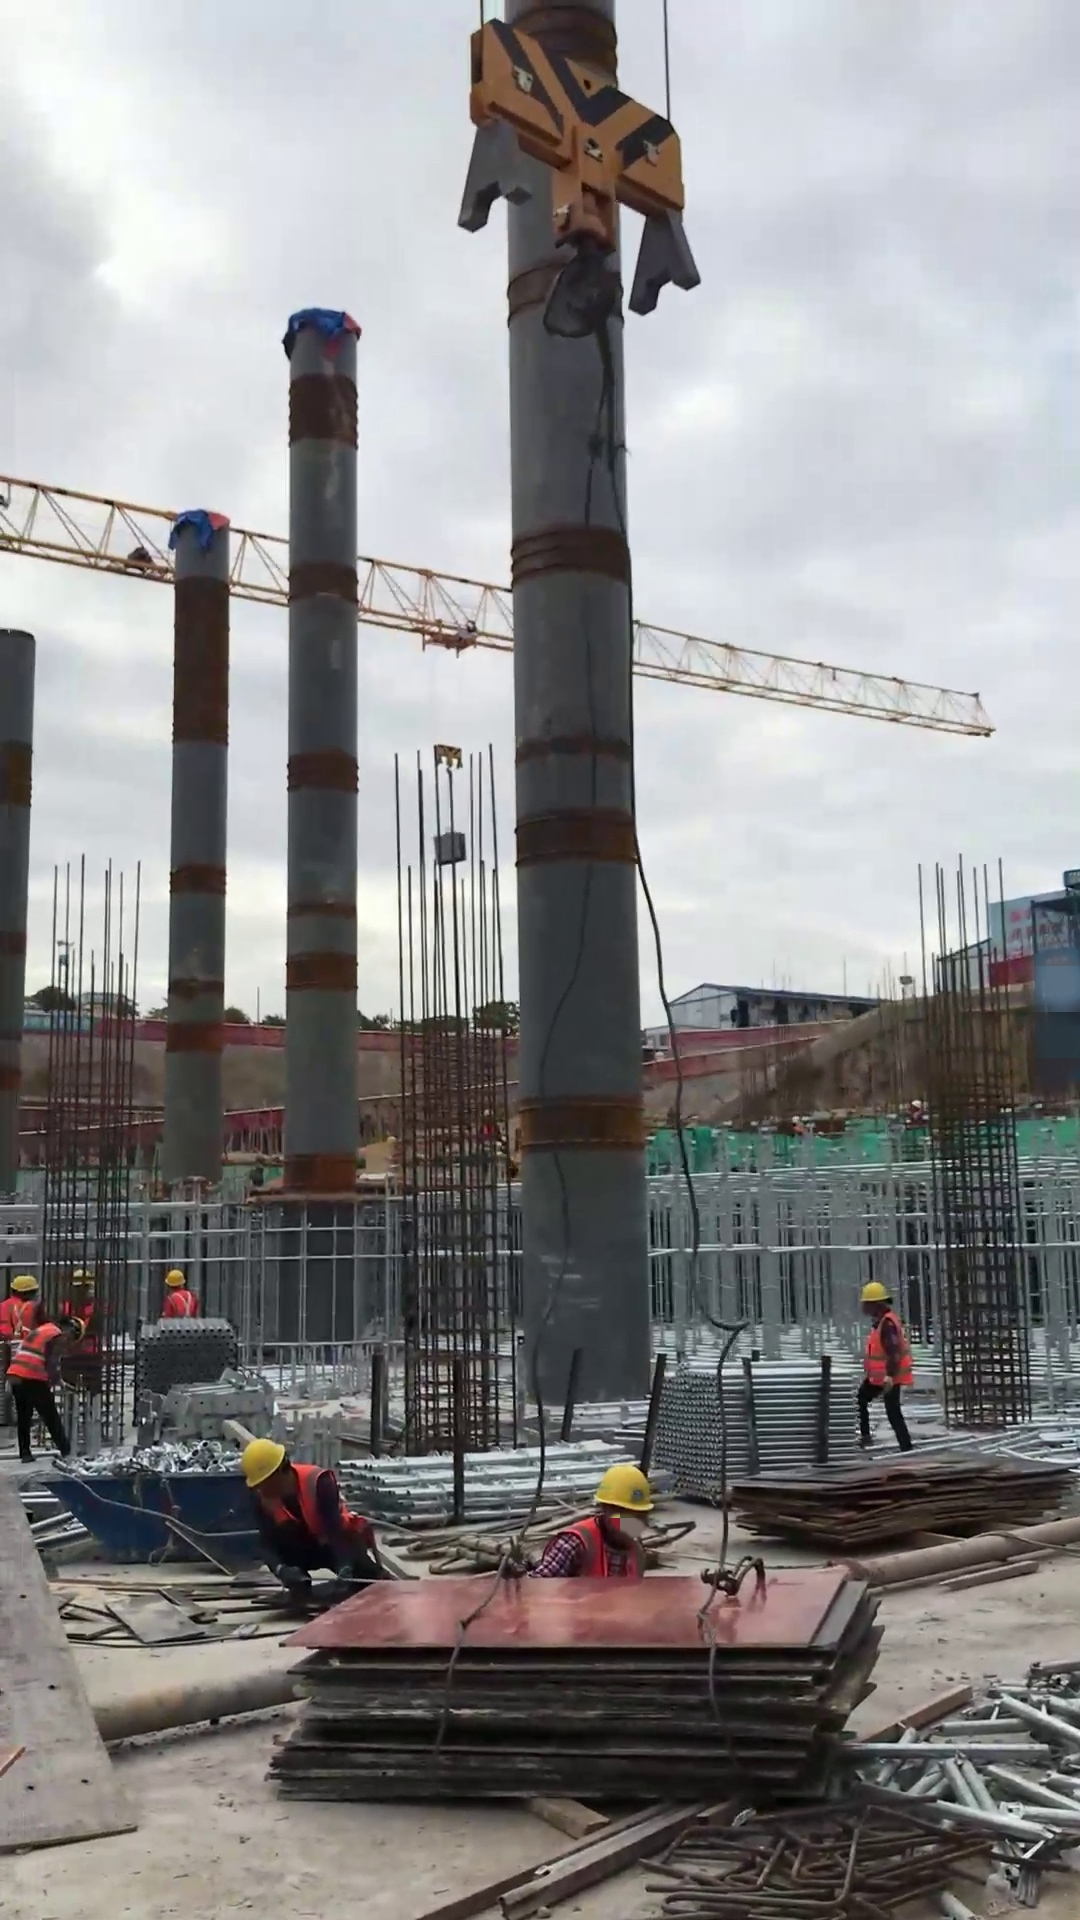board: (278, 1568, 855, 1802), (731, 1453, 1062, 1541)
helmet: (594, 1463, 655, 1515), (240, 1437, 287, 1489), (859, 1280, 892, 1304), (9, 1272, 42, 1296), (64, 1315, 87, 1347), (70, 1268, 95, 1289), (164, 1269, 186, 1287), (911, 1098, 923, 1112)
hook: (454, 17, 704, 322), (432, 741, 465, 775)
hopper: (43, 1466, 269, 1568)
person: (239, 1437, 386, 1594), (527, 1463, 657, 1578), (5, 1313, 86, 1465), (855, 1279, 916, 1452), (55, 1267, 112, 1393), (1, 1270, 45, 1342), (159, 1266, 200, 1318)
scaffold: (650, 1357, 861, 1498), (341, 1444, 596, 1523), (137, 1320, 239, 1397)
slogan: (1005, 870, 1080, 950), (20, 1013, 90, 1032)
vest: (254, 1465, 367, 1536), (563, 1516, 647, 1578), (863, 1311, 918, 1386), (7, 1321, 62, 1383), (62, 1298, 101, 1358), (166, 1289, 197, 1319), (1, 1297, 22, 1339), (20, 1299, 38, 1337)
